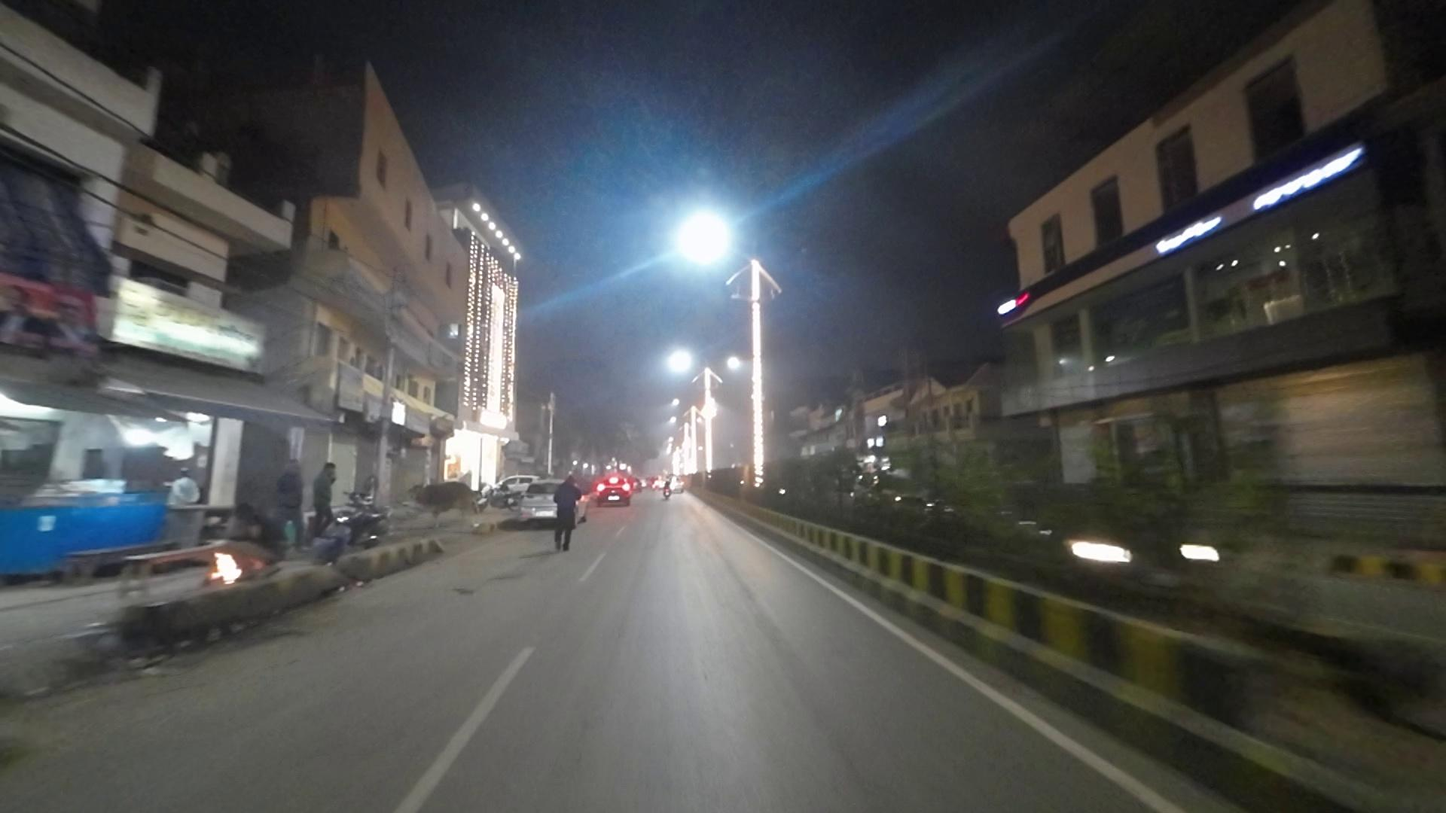streetlight: (756, 245, 808, 257)
